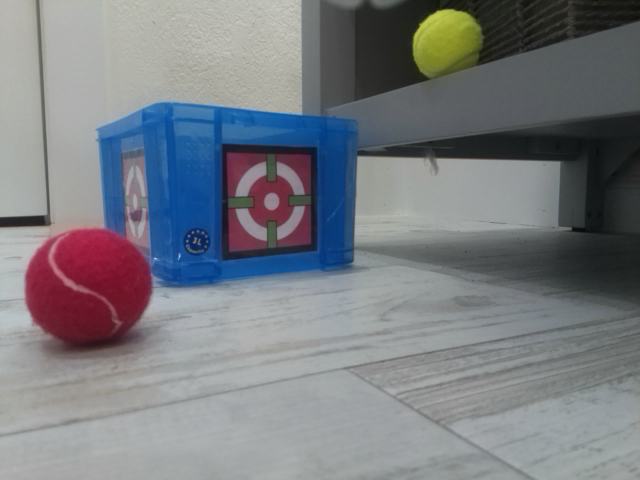drop-bin: (218, 143, 318, 260)
red-ball: (23, 226, 154, 347)
yellow-ball: (411, 8, 484, 80)
